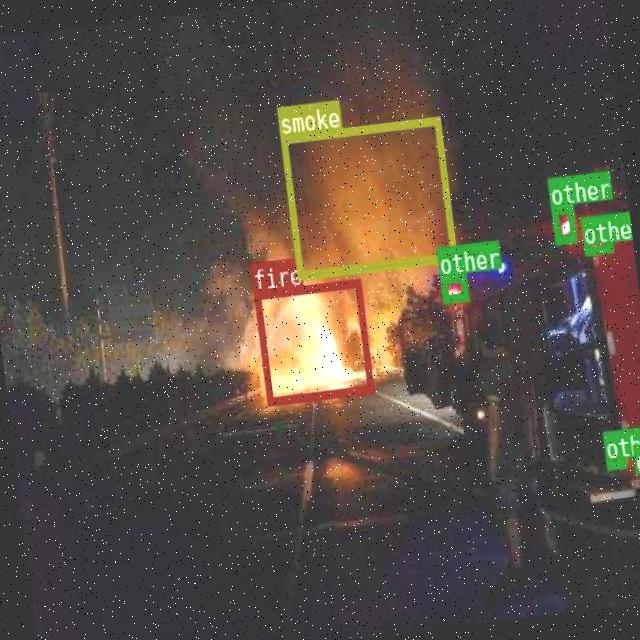fire: (252, 277, 372, 403)
smoke: (280, 115, 455, 278)
